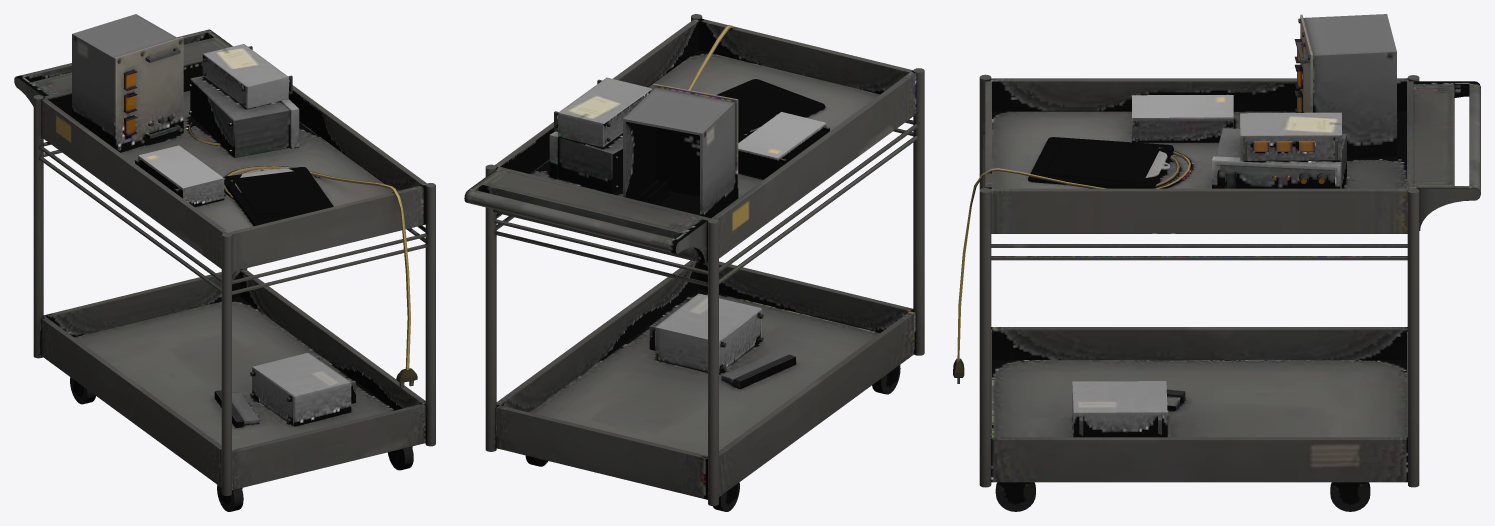
3 renders of one model, left to right at view 1: azimuth 30°, elevation 25°; view 2: azimuth 150°, elevation 25°; view 3: azimuth 270°, elevation 25°, orthographic. The views are drawn at different scales.
Parts seen in each view (by area): view 1: body0_model0_lod0_mesh0; view 2: body0_model0_lod0_mesh0; view 3: body0_model0_lod0_mesh0.
Boxes of the visible parts, left/top/right/bottom form: body0_model0_lod0_mesh0: left=14, top=14, right=435, bottom=511; body0_model0_lod0_mesh0: left=464, top=14, right=924, bottom=511; body0_model0_lod0_mesh0: left=953, top=14, right=1480, bottom=511.
Bounding box in the file's own units: 41.75 × 67.01 × 78.9.
Materials: 1 (1 with a texture image).
